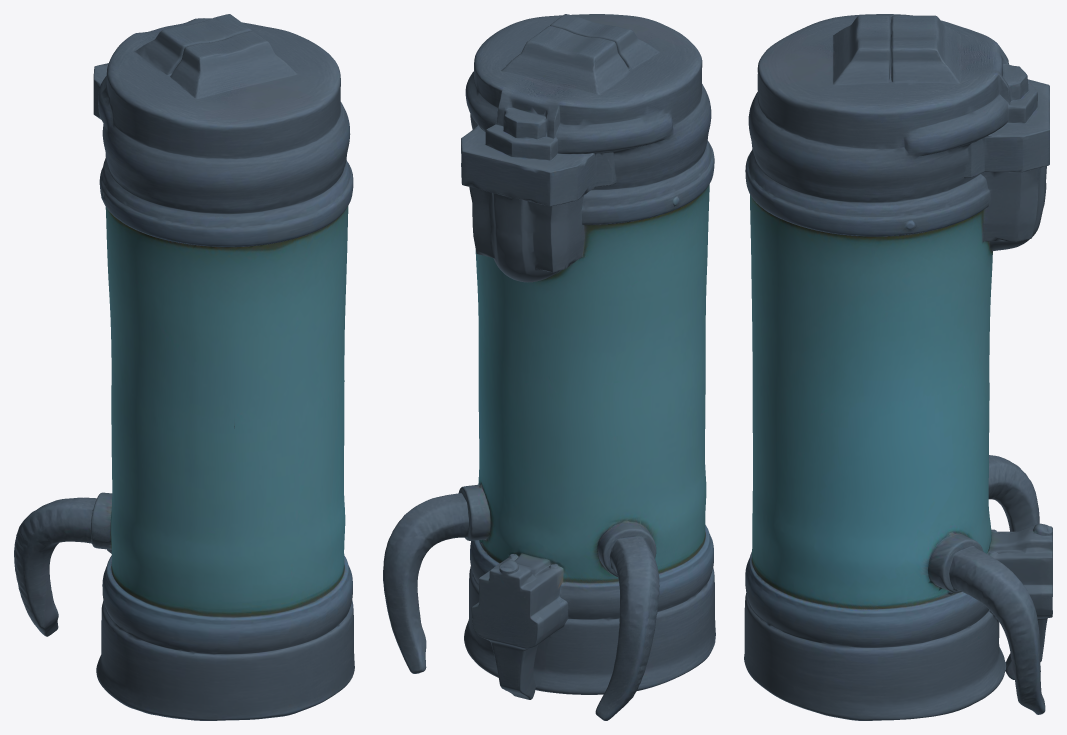
File: Testpod2.glb
3 views of the same model, side by side, from view 1: azimuth 30°, elevation 25°; view 2: azimuth 150°, elevation 25°; view 3: azimuth 270°, elevation 25° (orthographic). The views are drawn at different scales.
Parts seen in each view (by area): view 1: tripo_node_10191048-7508-45b2-8e3b-0a4b33dbd8a6; view 2: tripo_node_10191048-7508-45b2-8e3b-0a4b33dbd8a6; view 3: tripo_node_10191048-7508-45b2-8e3b-0a4b33dbd8a6.
Part boxes in pixels (left/top/right/bottom): tripo_node_10191048-7508-45b2-8e3b-0a4b33dbd8a6: left=14, top=14, right=354, bottom=720; tripo_node_10191048-7508-45b2-8e3b-0a4b33dbd8a6: left=383, top=14, right=715, bottom=720; tripo_node_10191048-7508-45b2-8e3b-0a4b33dbd8a6: left=744, top=14, right=1052, bottom=720.
Bounding box in the file's own units: 0.4437 × 1 × 0.4313.
Materials: 1 (1 with a texture image).
